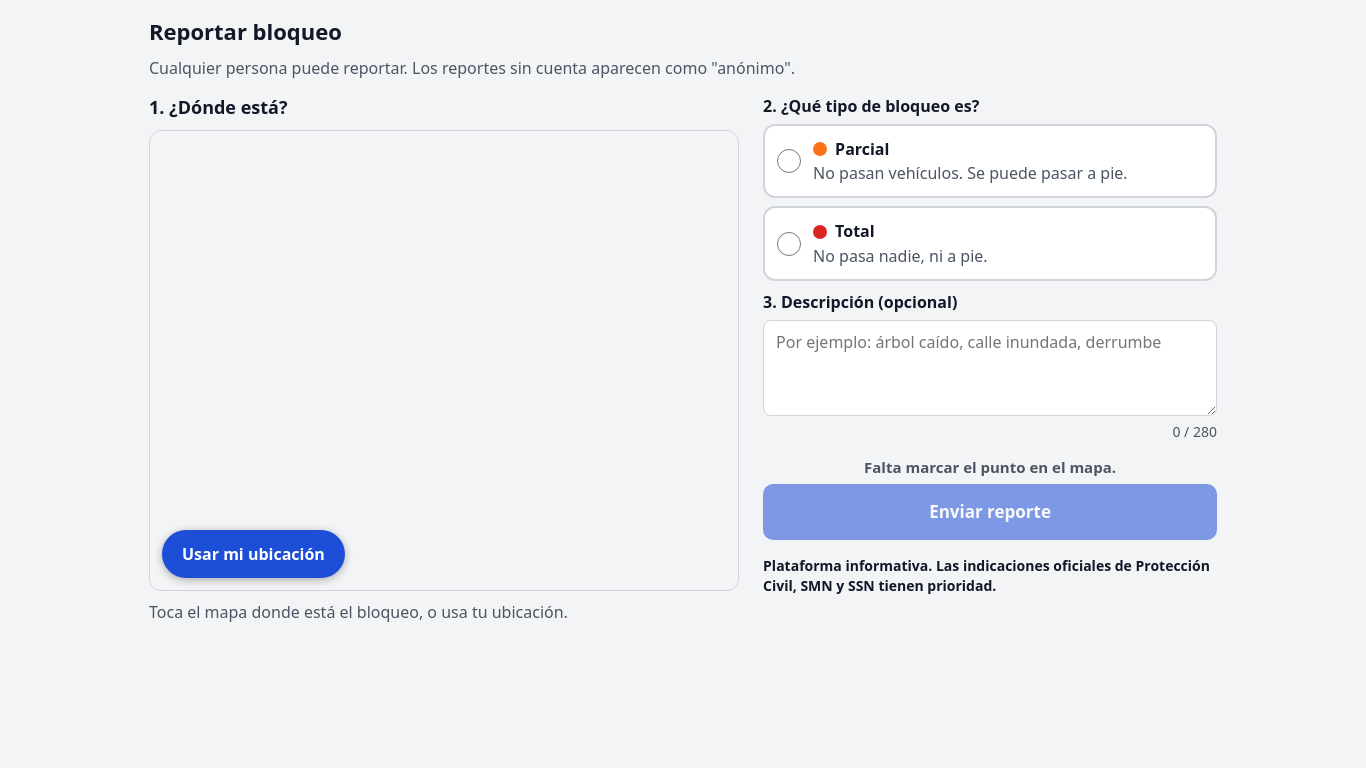
it: ReportarBloqueo › en una página http explica que la ubicación necesita https y no pide el GPS
Click the button "Usar mi ubicación" at (253, 554), box [162,530,345,578]
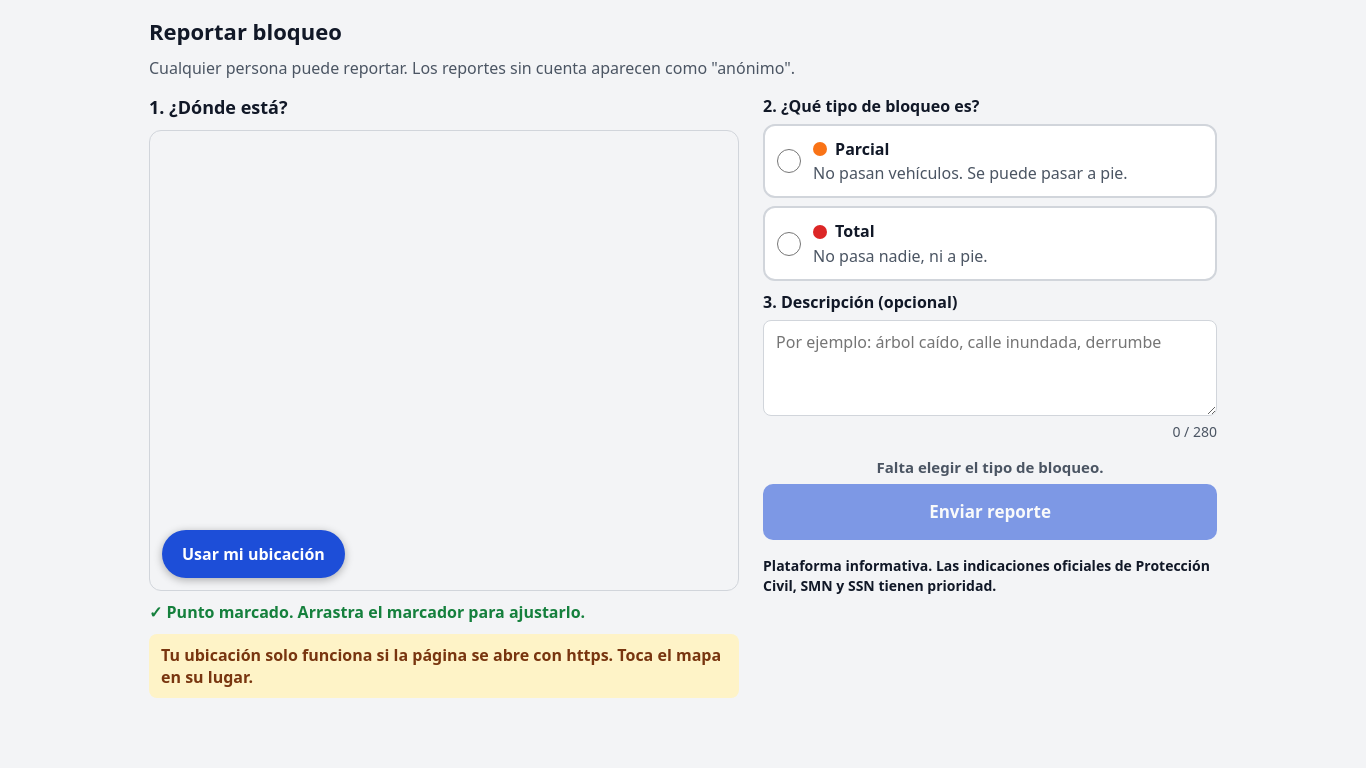
Now the text "Tu ubicación solo funciona si la página se abre con https. Toca el mapa en su lugar." is shown, box [161,644,721,688]
Click the radio button labelled "Total No pasa nadie, ni a pie." at (789, 244), box [777,232,801,256]
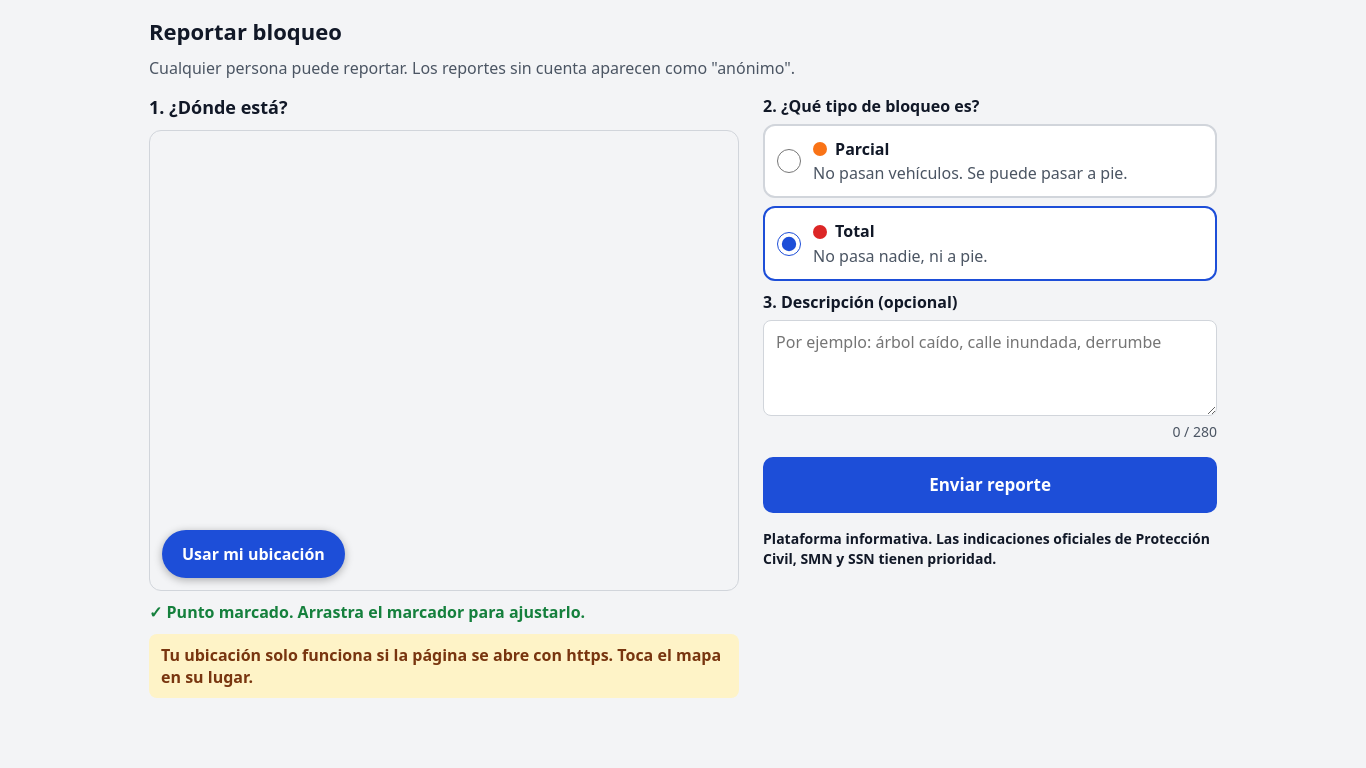
Now the button "Enviar reporte" is enabled, box [763,457,1217,513]
